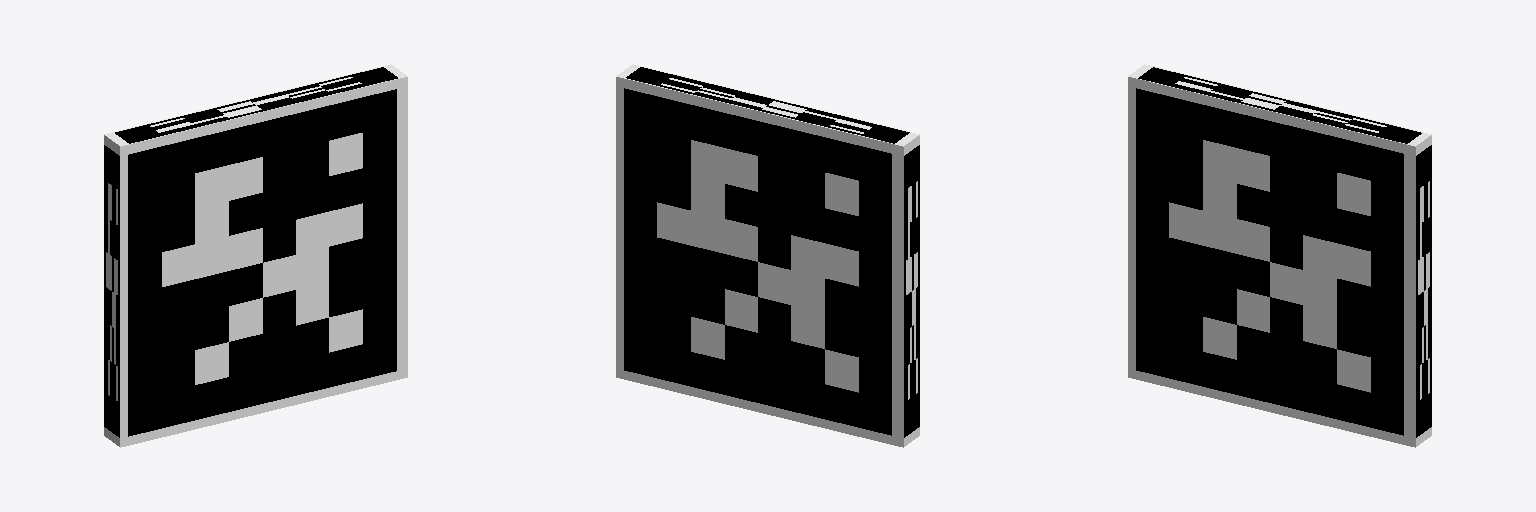
3 renders of one model, left to right at view 1: azimuth 30°, elevation 25°; view 2: azimuth 150°, elevation 25°; view 3: azimuth 330°, elevation 25°, orthographic.
Parts seen in each view (by area): view 1: Cube; view 2: Cube; view 3: Cube.
Boxes of the visible parts, <box> form: Cube: <box>104,64,407,447</box>; Cube: <box>616,64,919,447</box>; Cube: <box>1128,64,1431,447</box>.
Size of the model in its own units: 2 by 2 by 0.2.
Materials: 1 (1 with a texture image).